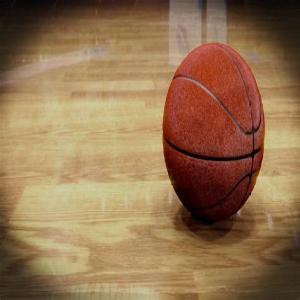Basket: (162, 42, 266, 220)
